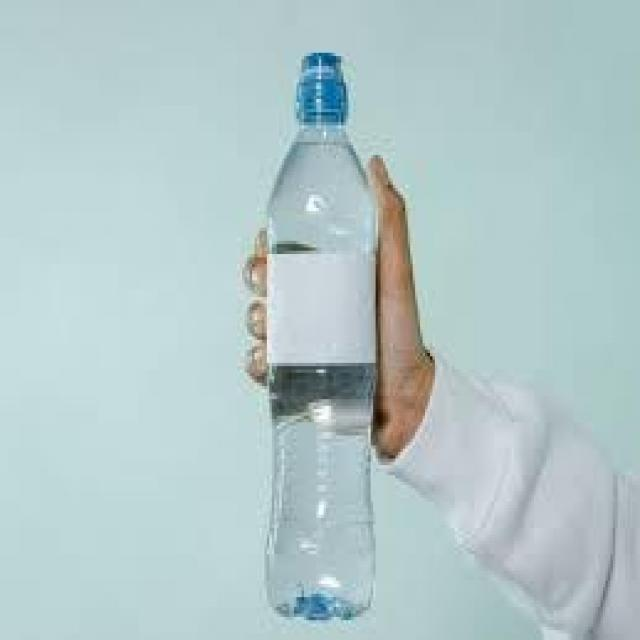bottle: (216, 45, 444, 636)
